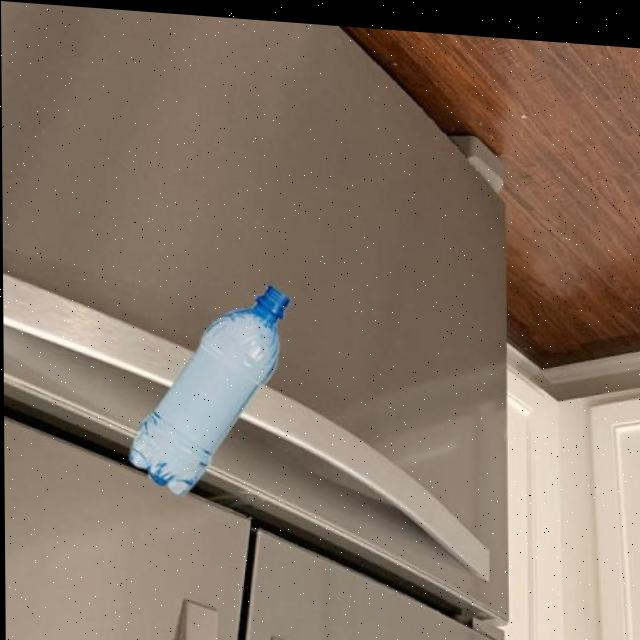bottle: (126, 272, 293, 501)
